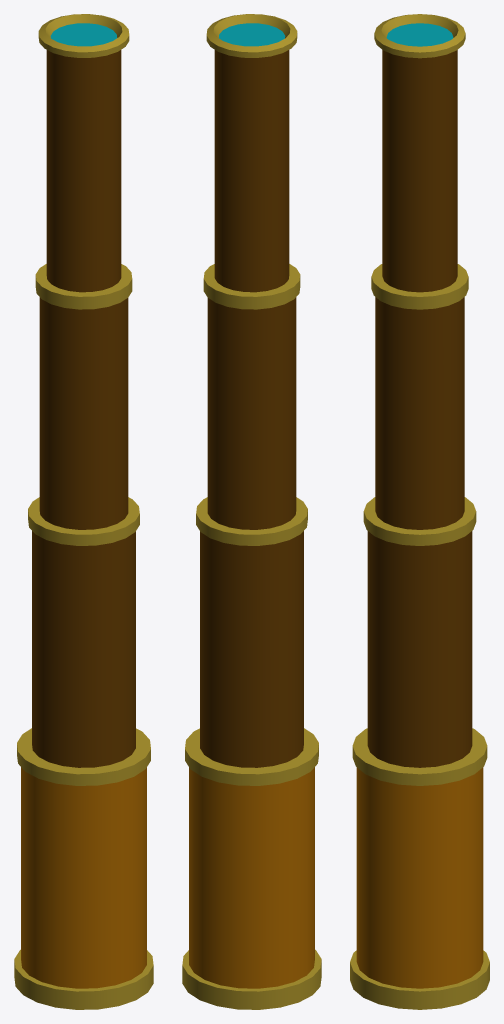
File: telescope.fbx
The picture shows the model from 3 angles, left to right: view 1: azimuth 30°, elevation 25°; view 2: azimuth 150°, elevation 25°; view 3: azimuth 270°, elevation 25°; orthographic projection.
Visible parts, largest first — view 1: pCylinder29; view 2: pCylinder29; view 3: pCylinder29.
Boxes of the visible parts, x1,y1,x2,y2 form: pCylinder29: (14,14,153,1009); pCylinder29: (182,14,321,1009); pCylinder29: (350,14,489,1009).
Size of the model in its own units: 0.1335 by 1 by 0.1335.
